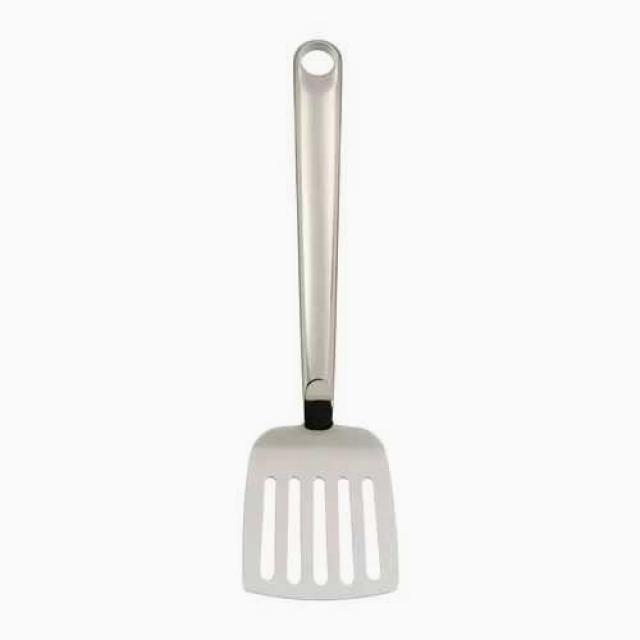Spatula: (216, 33, 443, 618)
